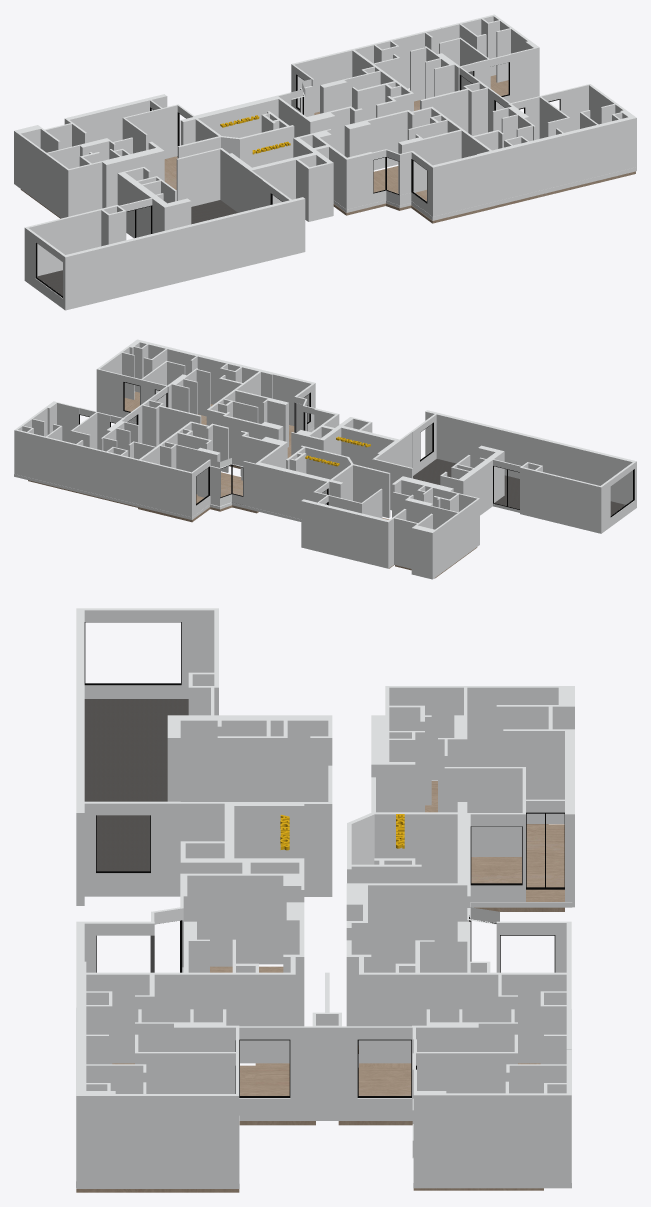
File: planta-2.glb
The picture shows the model from 3 angles, top to bottom: view 1: azimuth 30°, elevation 25°; view 2: azimuth 150°, elevation 25°; view 3: azimuth 270°, elevation 25°; orthographic projection. The views are drawn at different scales.
Parts seen in each view (by area): view 1: Component_640, tipo-205, tipo-204, tipo-201; view 2: Component_640, tipo-202; view 3: Component_640, tipo-201, tipo-204, tipo-203.
Part boxes in pixels (x1,y1,x2,y2): Component_640: (14, 14, 636, 310); tipo-205: (333, 166, 494, 223); tipo-204: (494, 171, 635, 208); tipo-201: (20, 156, 177, 218); Component_640: (14, 339, 636, 579); tipo-202: (138, 472, 258, 522); Component_640: (76, 608, 574, 1188); tipo-201: (425, 781, 564, 911); tipo-204: (76, 1067, 315, 1192); tipo-203: (338, 1067, 543, 1190).
Size of what is drawn, in the model's own units: 35.42 by 3.55 by 15.31.
Materials: 10 (8 with a texture image).
